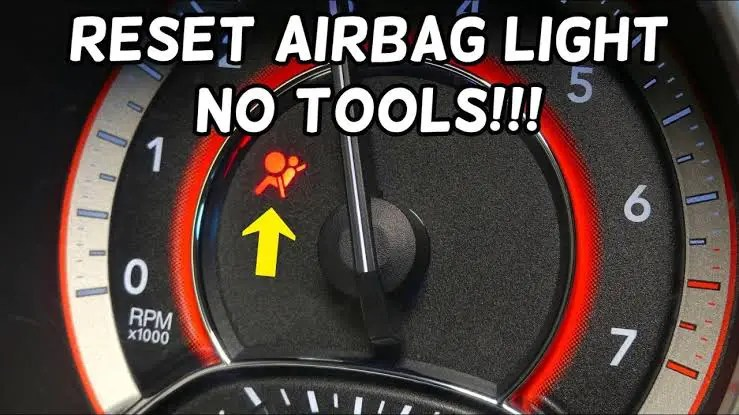Airbag_warning: (252, 149, 308, 204)
